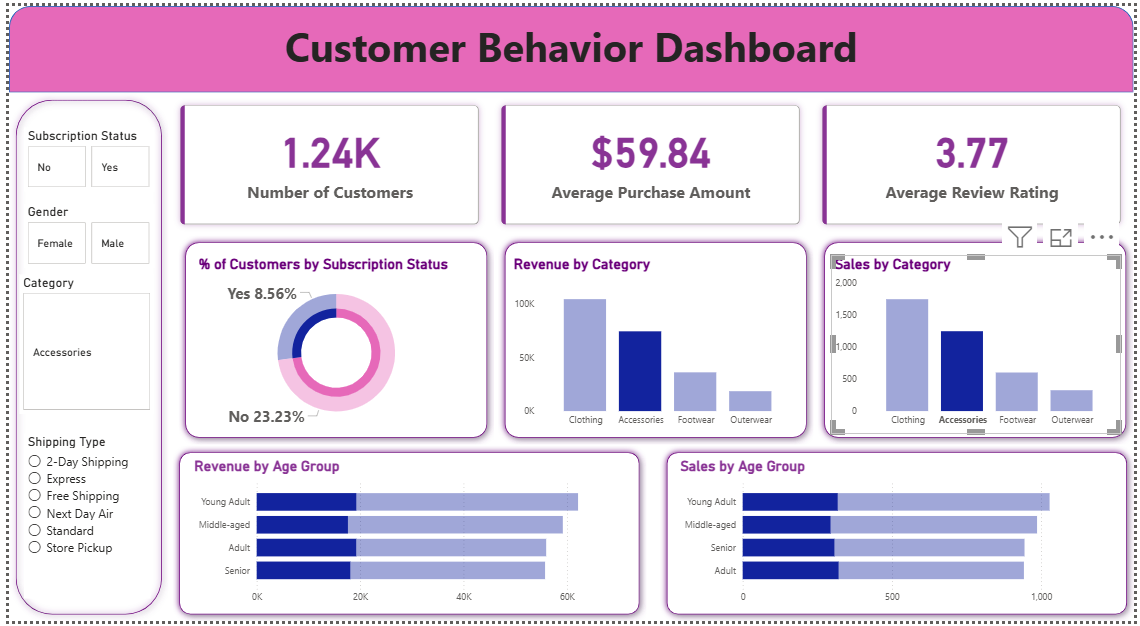

The page's visual inventory and layout, read from the dashboard file:
{"tool":"powerbi","page":{"name":"Page 1","canvas":[1500,820],"ordinal":0},"visuals":[{"type":"cardVisual","fields":{"Data":["public customer.Number of Customers","public customer.Average Purchase Amount","public customer.Average Review Rating"]},"box":[212.9,115.3,1286.5,191.6],"z":2000},{"type":"shape","box":[218.3,585.6,631.7,234.2],"z":2500,"group":"g1"},{"type":"shape","box":[0,0,1499.4,115.3],"z":3000},{"type":"textbox","box":[0,12.4,1499.4,102.9],"z":4000},{"type":"shape","box":[225.4,307,420.5,278.6],"z":5000},{"type":"donutChart","title":"% of Customers by Subscription Status","fields":{"Category":["public customer.subscription_status"],"Y":["CountNonNull(public customer.customer_id)"]},"box":[248.4,331.8,376.2,237.8],"z":6000},{"type":"shape","box":[1078.9,307,420.5,278.6],"z":7000},{"type":"shape","box":[652.1,307,420.5,278.6],"z":8000},{"type":"clusteredColumnChart","title":"Revenue by Category","fields":{"Y":["Sum(public customer.purchase_amount)"],"Category":["public customer.category"]},"box":[667.2,331.8,385.1,237.8],"z":9000},{"type":"clusteredColumnChart","title":"Sales by Category","fields":{"Y":["CountNonNull(public customer.customer_id)"],"Category":["public customer.category"]},"box":[1096.6,331.8,385.1,237.8],"z":10000},{"type":"shape","box":[0,115.3,212.9,704.5],"z":11000},{"type":"advancedSlicerVisual","fields":{"Values":["public customer.subscription_status"]},"box":[19.5,161.5,173.9,85.2],"z":12000},{"type":"advancedSlicerVisual","fields":{"Values":["public customer.gender"]},"box":[19.5,264.4,173.9,85.2],"z":13000},{"type":"advancedSlicerVisual","fields":{"Values":["public customer.category"]},"box":[14.2,358.4,179.2,186.3],"z":14000},{"type":"listSlicer","fields":{"Values":["public customer.shipping_type"]},"box":[19.5,569.6,168.6,220],"z":15000},{"type":"shape","box":[867.7,585.6,631.7,234.2],"z":16000},{"type":"clusteredBarChart","title":"Sales by Age Group","fields":{"Y":["CountNonNull(public customer.customer_id)"],"Category":["public customer.age_group"]},"box":[890.8,601.5,585.6,204.1],"z":17000},{"type":"clusteredBarChart","title":"Revenue by Age Group","fields":{"Y":["Sum(public customer.purchase_amount)"],"Category":["public customer.age_group"]},"box":[241.4,601.6,585.6,204.1],"z":17500,"group":"g1"},{"type":"group","id":"g1","title":"Group 1","box":[218.3,585.6,631.7,234.2],"z":17501}]}

Visuals, with their boxes in screenshot pixels (x1, y1, x2, y2), scaled from the page's 1500x820 canvas onto the 1140x626 screenshot:
cardVisual - public customer.Number of Customers x public customer.Average Purchase Amount: (162,88,1139,234)
shape: (166,447,646,625)
shape: (0,0,1139,88)
textbox: (0,9,1139,88)
shape: (171,234,491,447)
"% of Customers by Subscription Status" donutChart: (189,253,475,435)
shape: (820,234,1139,447)
shape: (496,234,815,447)
"Revenue by Category" clusteredColumnChart: (507,253,800,435)
"Sales by Category" clusteredColumnChart: (833,253,1126,435)
shape: (0,88,162,625)
advancedSlicerVisual - public customer.subscription_status: (15,123,147,188)
advancedSlicerVisual - public customer.gender: (15,202,147,267)
advancedSlicerVisual - public customer.category: (11,274,147,416)
listSlicer - public customer.shipping_type: (15,435,143,603)
shape: (659,447,1139,625)
"Sales by Age Group" clusteredBarChart: (677,459,1122,615)
"Revenue by Age Group" clusteredBarChart: (183,459,629,615)
"Group 1" group: (166,447,646,625)
